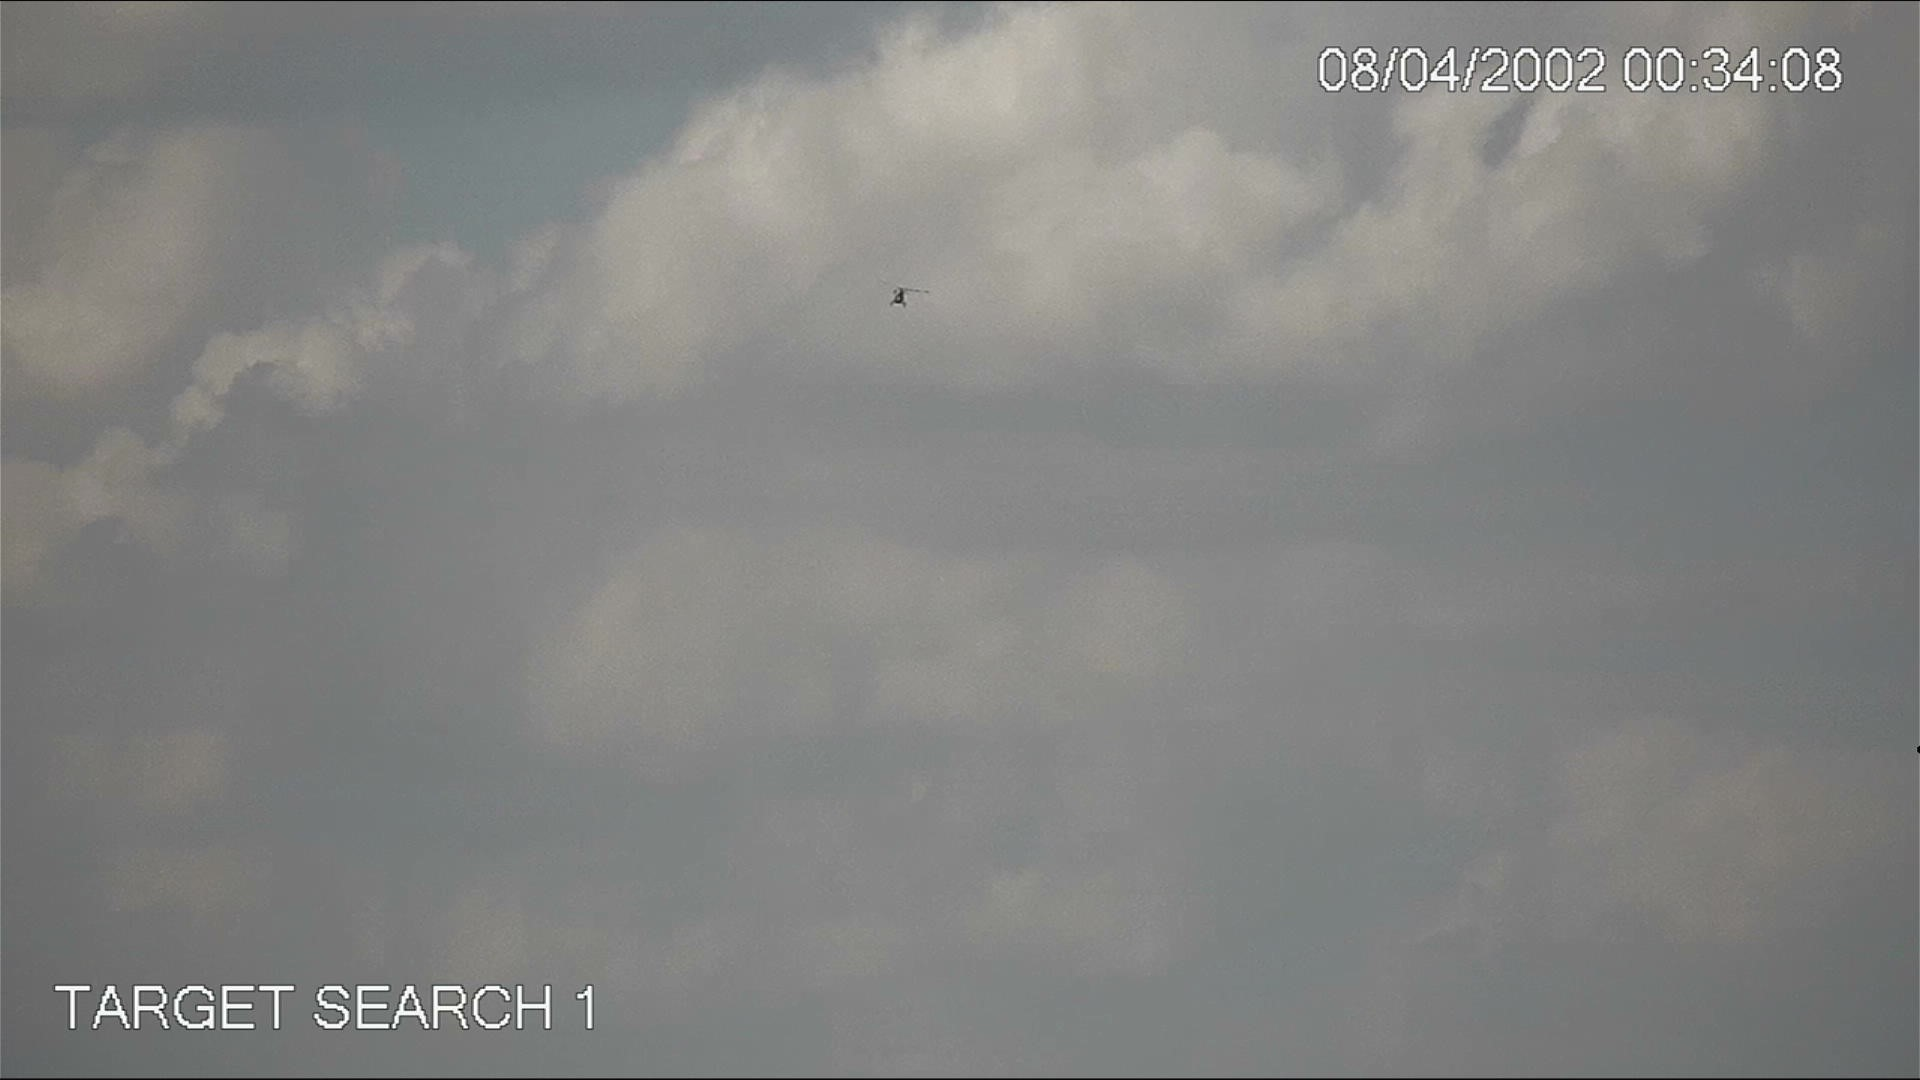SU_30: (884, 277, 927, 314)
